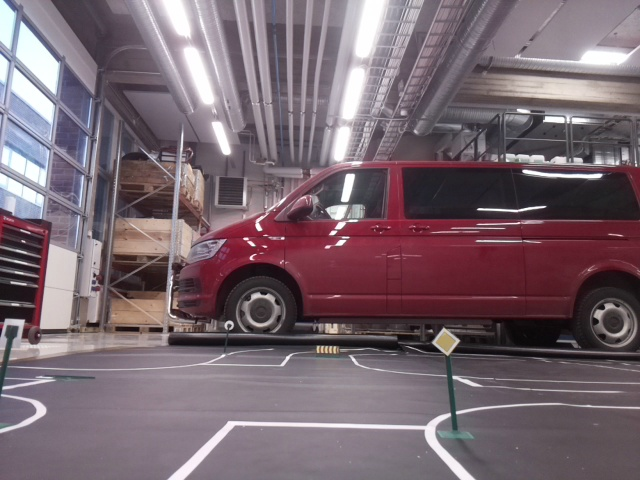Priority: (431, 328, 460, 355)
